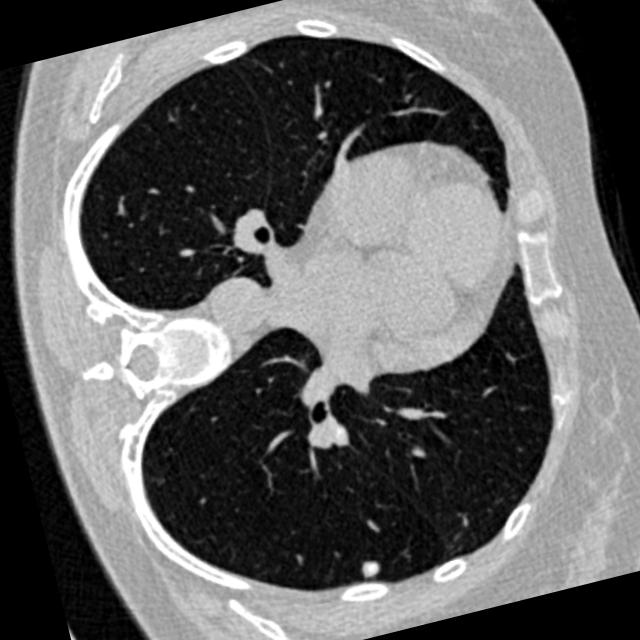nodule: (348, 545, 396, 593)
